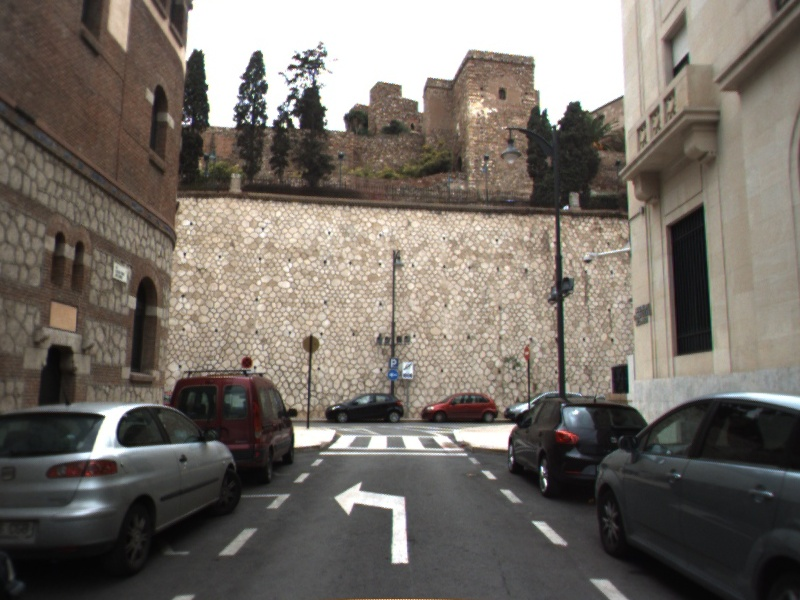LEFT: (331, 477, 412, 567)
